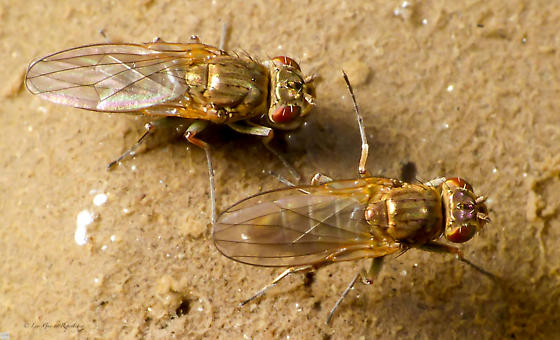Ephydridae: (210, 116, 505, 323), (16, 29, 317, 185)
